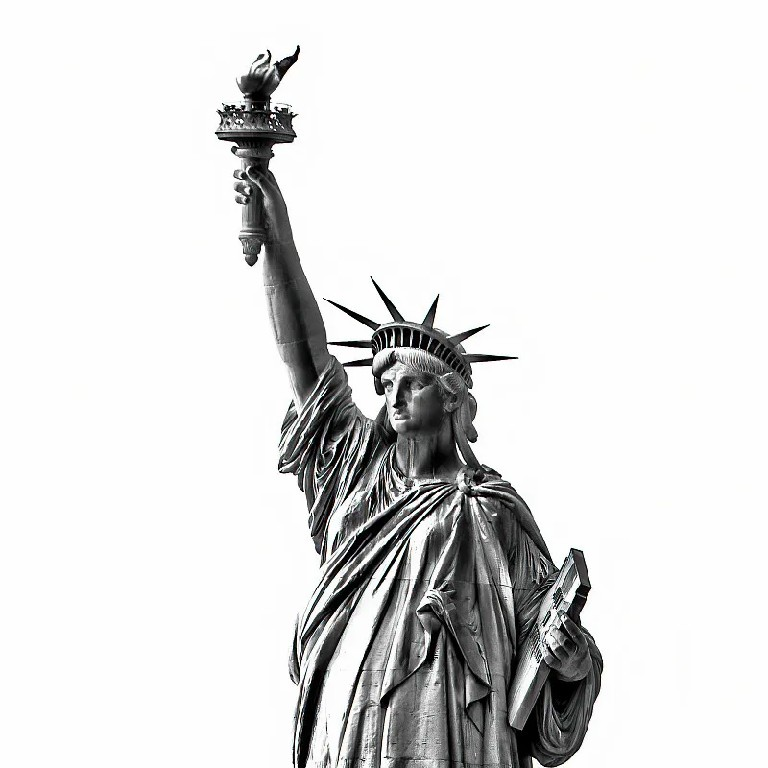SL: (216, 43, 605, 768)
